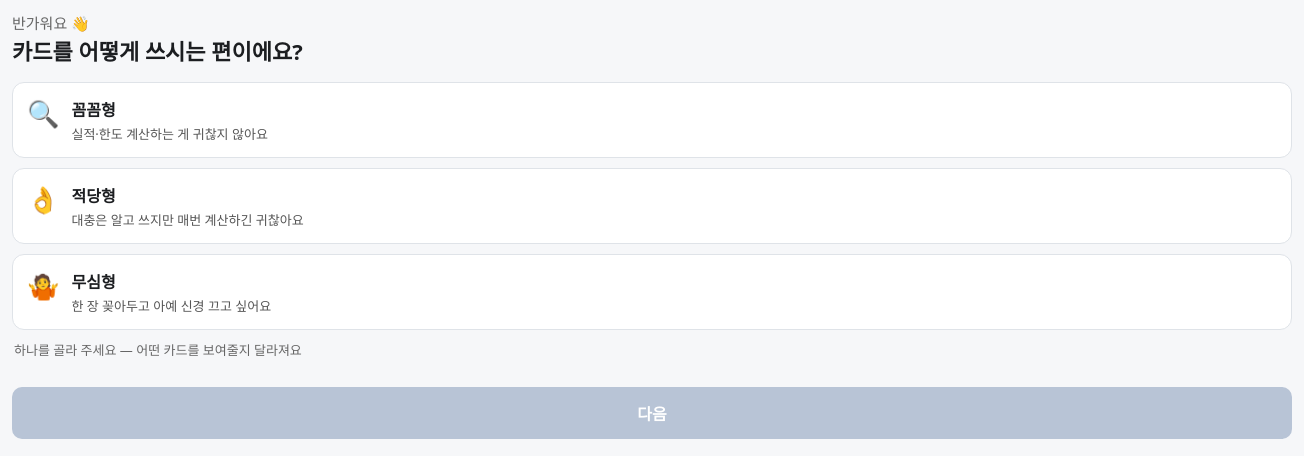
Test case: 성향 타일 3개, 고르기 전엔 안내, 고르면 그 성향 설명만
The image size is (1304, 456).
expect the text "하나를 골라 주세요 — 어떤 카드를 보여줄지 달라져요" is shown: met, box [14,341,302,359]
Click the radio button labelled "적당형".
click(43, 199)  # box [12,168,1292,244]
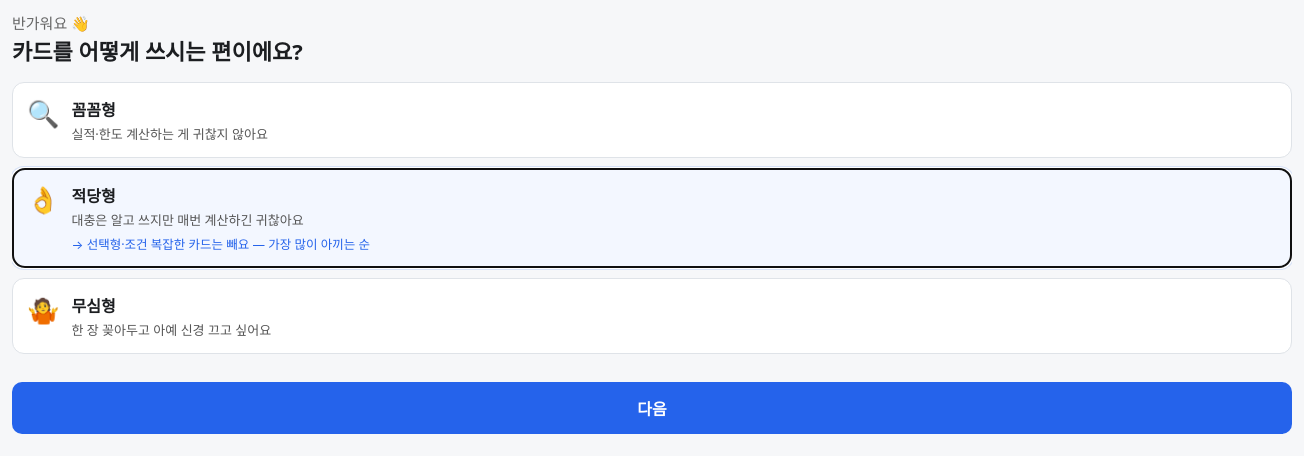
expect the text "대충은 알고 쓰지만 매번 계산하긴 귀찮아요" is shown: met, box [71,211,304,229]
expect the text "→ 선택형·조건 복잡한 카드는 빼요 — 가장 많이 아끼는 순" is shown: met, box [71,234,370,253]
Click the radio button labelled "무심형".
click(43, 309)  # box [12,278,1292,354]
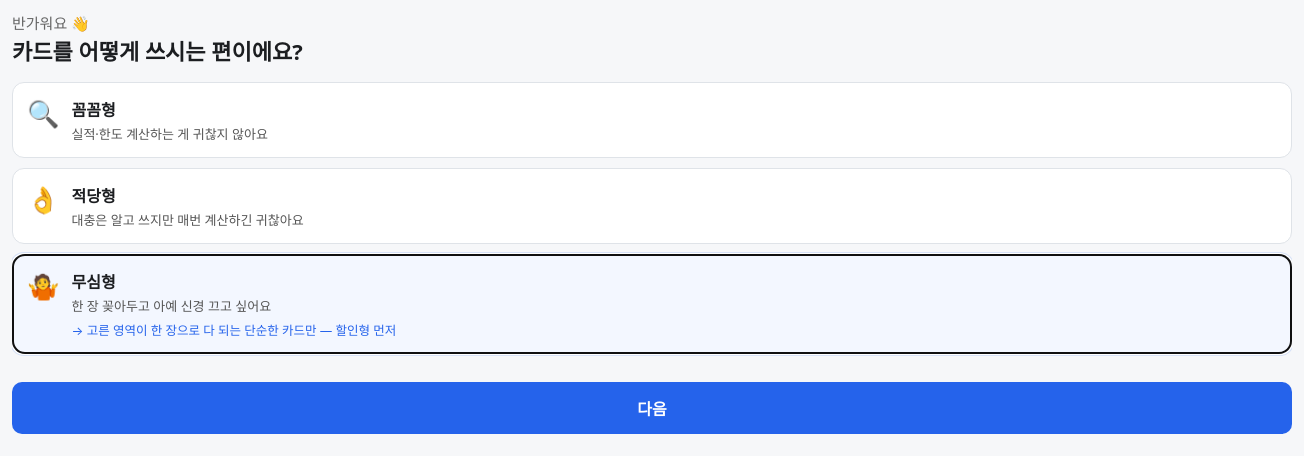
expect the text "한 장 꽂아두고 아예 신경 끄고 싶어요" is shown: met, box [71,297,271,315]
expect the text "→ 고른 영역이 한 장으로 다 되는 단순한 카드만 — 할인형 먼저" is shown: met, box [71,320,396,339]
